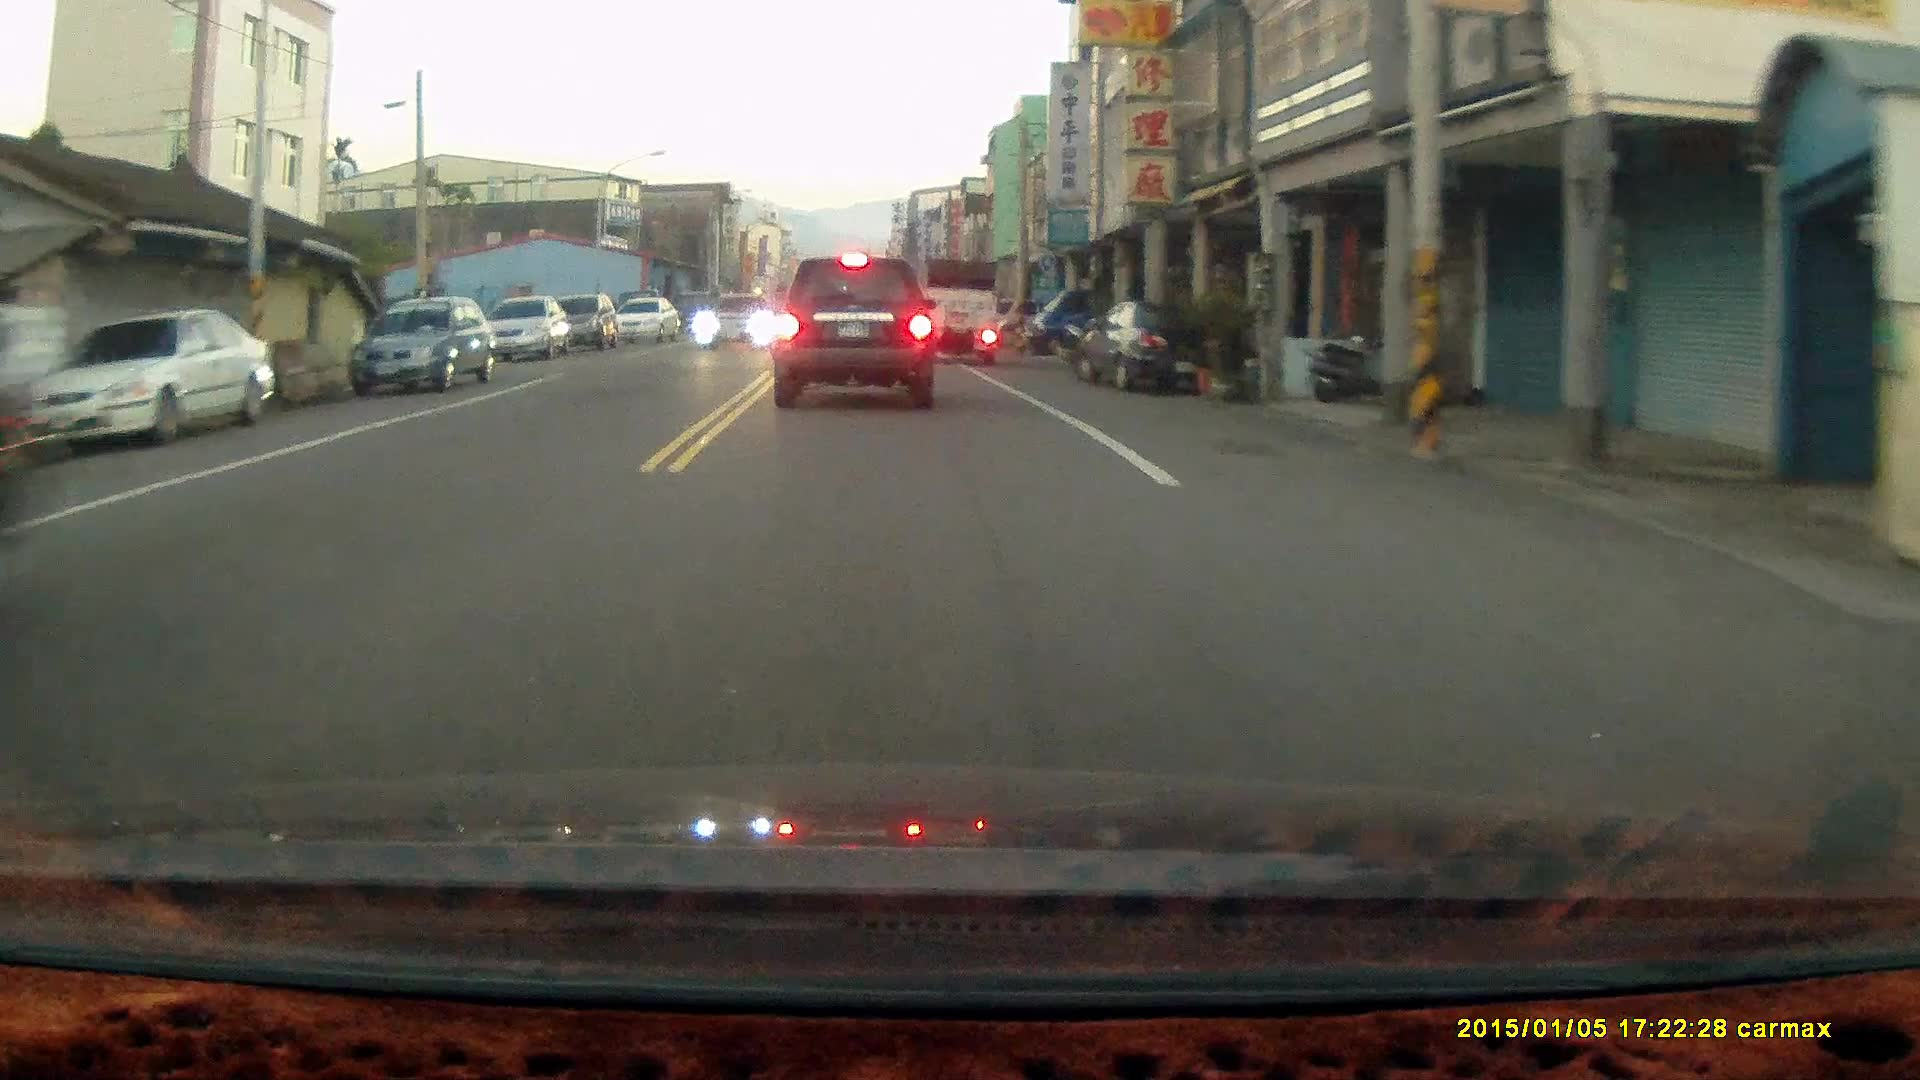vehicle: (29, 306, 264, 447), (771, 252, 936, 409), (1076, 298, 1236, 390), (352, 295, 496, 393), (910, 257, 1005, 371), (1029, 280, 1156, 363), (489, 294, 567, 361), (696, 293, 778, 351), (545, 291, 620, 349), (613, 295, 683, 347)
